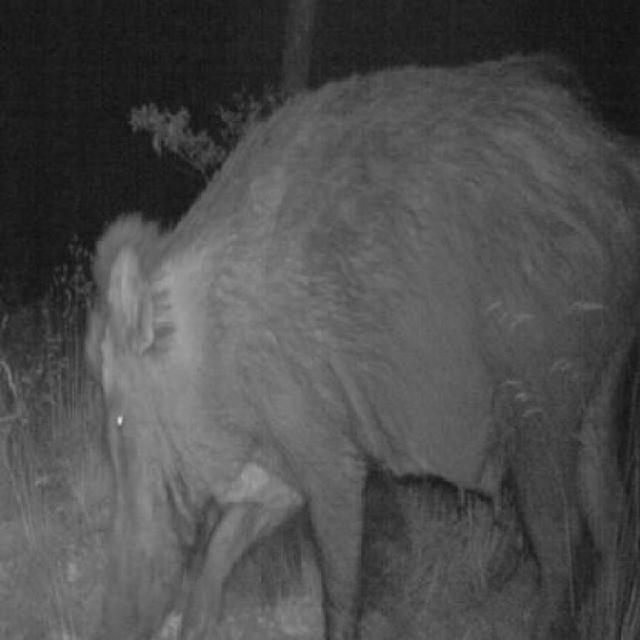WildBoar: (90, 29, 638, 638)
